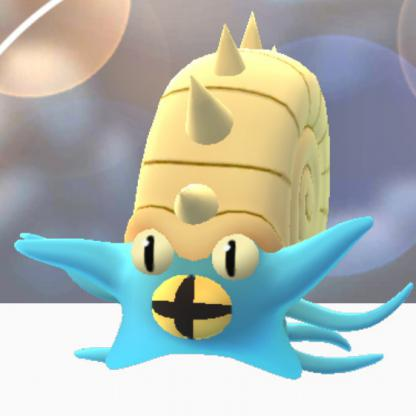Omastar: (32, 28, 392, 391)
